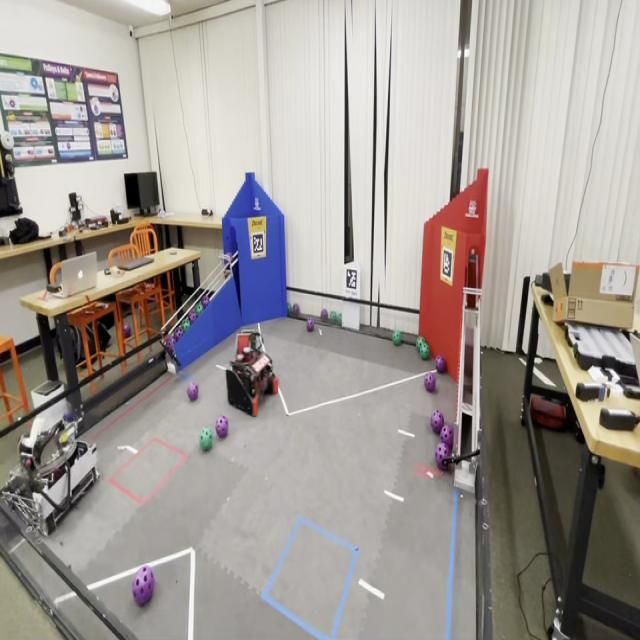artifact_green: (200, 427, 213, 451), (418, 343, 429, 360), (188, 307, 197, 324), (392, 330, 401, 346), (123, 323, 132, 338), (181, 319, 190, 333), (416, 336, 425, 350), (195, 303, 203, 316), (423, 342, 429, 359), (292, 304, 299, 317), (330, 311, 337, 324), (337, 313, 341, 325), (419, 336, 425, 342), (288, 304, 291, 315)
artifact_purple: (132, 566, 154, 606), (435, 443, 450, 470), (440, 425, 453, 450), (431, 411, 443, 434), (216, 415, 228, 438), (424, 373, 435, 392), (188, 382, 198, 401), (436, 356, 446, 373), (173, 328, 183, 345), (164, 336, 173, 351), (200, 294, 209, 308), (189, 309, 197, 324), (306, 318, 314, 331), (124, 324, 131, 338), (321, 309, 328, 322), (63, 412, 73, 421), (292, 304, 299, 316)
